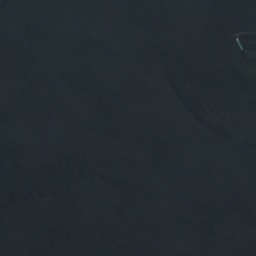Ship: (235, 37, 244, 50)
